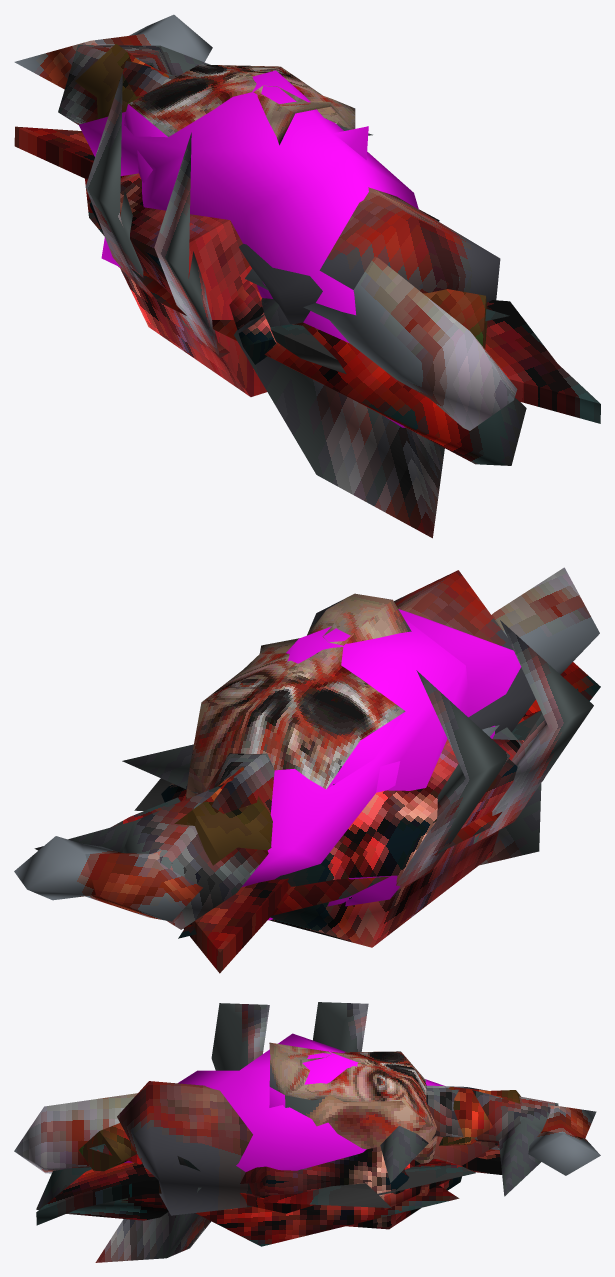
File: hgibs.glb
3 renders of one model, top to bottom at view 1: azimuth 30°, elevation 25°; view 2: azimuth 150°, elevation 25°; view 3: azimuth 270°, elevation 25°, orthographic. The views are drawn at different scales.
Parts seen in each view (by area): view 1: valve/models/Hgibs.mdl; view 2: valve/models/Hgibs.mdl; view 3: valve/models/Hgibs.mdl.
Boxes of the visible parts, left/top/right/bottom form: valve/models/Hgibs.mdl: left=14, top=14, right=600, bottom=538; valve/models/Hgibs.mdl: left=14, top=567, right=600, bottom=973; valve/models/Hgibs.mdl: left=14, top=1002, right=600, bottom=1262.
Bounding box in the file's own units: 17.02 × 16.45 × 38.57.
14 materials, 14 textured.
